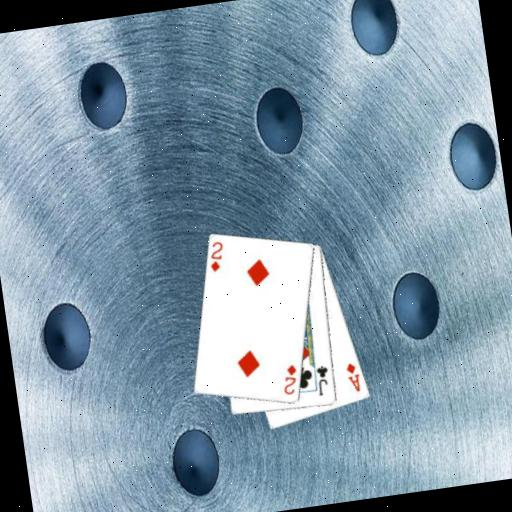2D: (278, 361, 302, 397), (204, 238, 228, 274)
AD: (343, 359, 364, 395)
JC: (312, 363, 333, 398)
